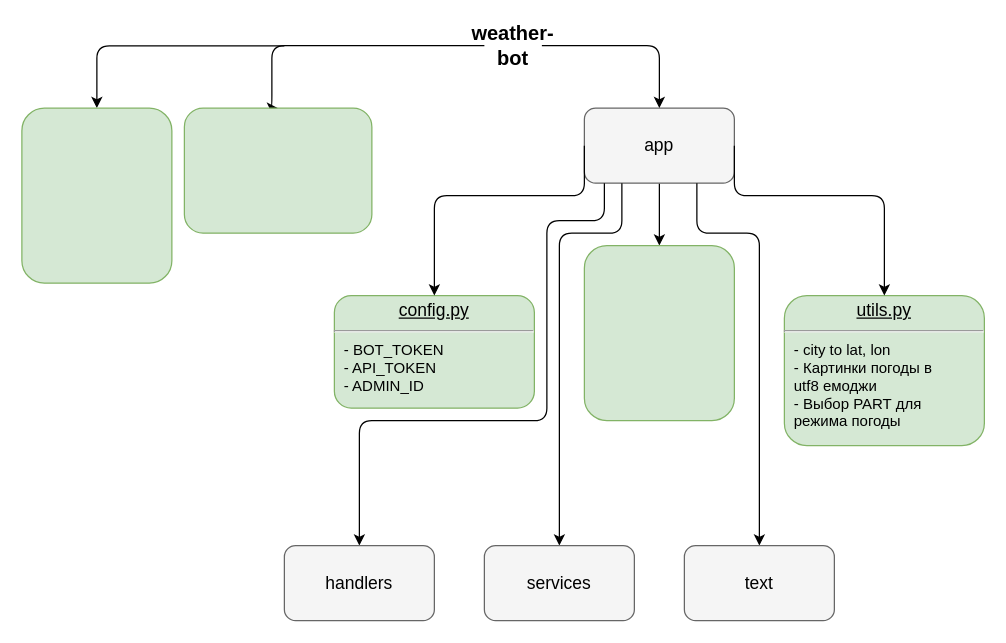
This 1006x643 diagram has some shape labels left out. The shapes that lost their labels are listed below. From the top down, each one's centre as x and y in pixels, then its label:
(x=277, y=170): bot.py - ...
(x=96, y=195): misc.py - ...
(x=658, y=332): keyboards.py - ...
